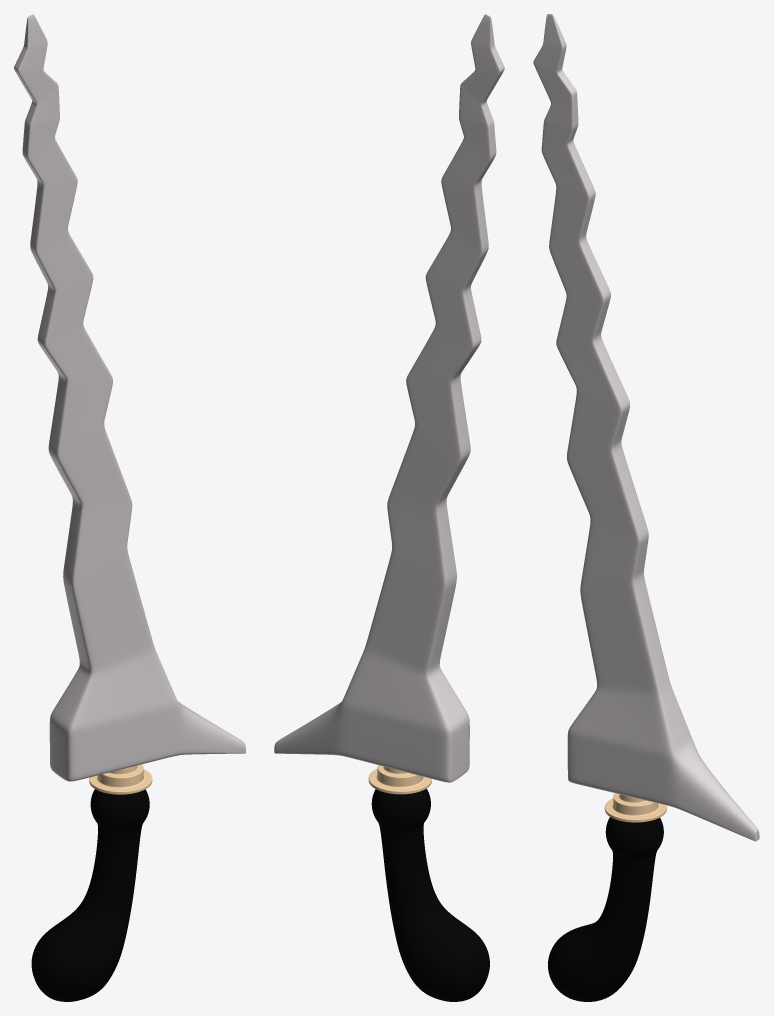
File: keris.fbx
The picture shows the model from 3 angles, left to right: view 1: azimuth 30°, elevation 25°; view 2: azimuth 150°, elevation 25°; view 3: azimuth 330°, elevation 25°; orthographic projection.
Visible parts, largest first — view 1: Cylinder; view 2: Cylinder; view 3: Cylinder.
Part boxes in pixels (bbox=[...]): Cylinder: bbox=[14, 14, 245, 1001]; Cylinder: bbox=[274, 14, 504, 1001]; Cylinder: bbox=[533, 14, 759, 1001].
Size of the model in its own units: 17.07 by 71.12 by 5.29.
